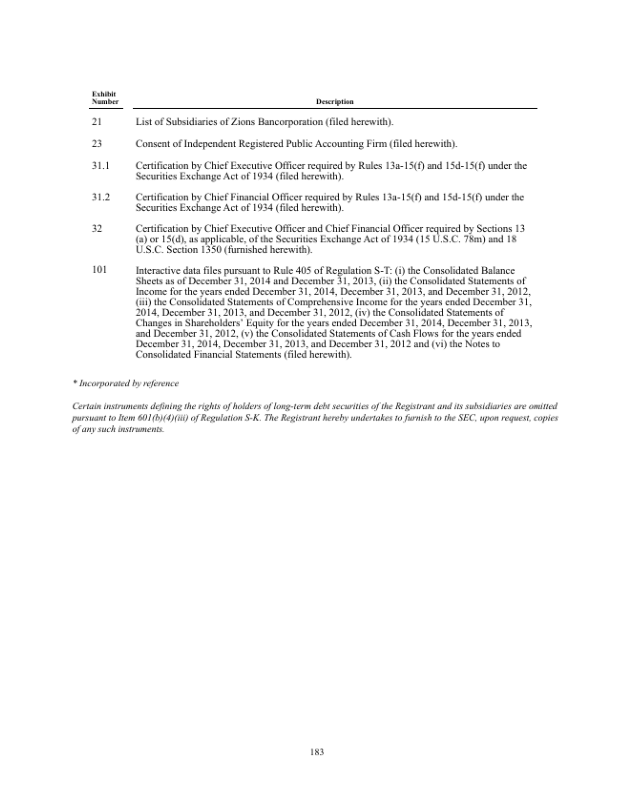table: (80, 86, 546, 368)
